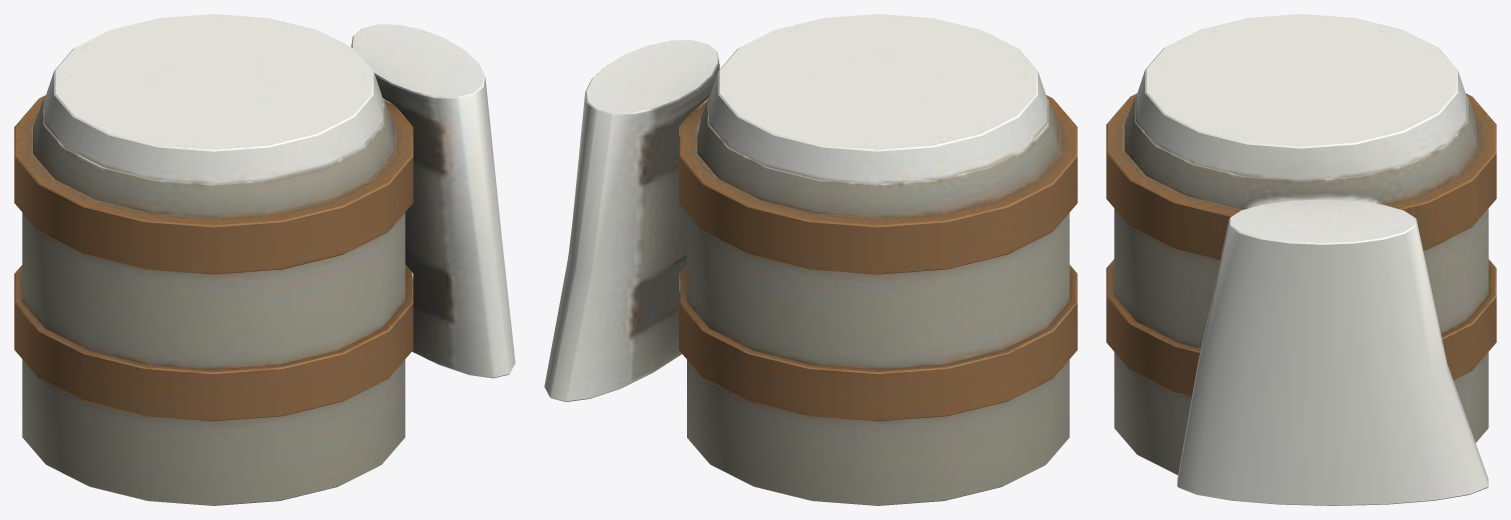
Rendered from IT_cloth_roll.glb.
3 views of the same model, side by side, from view 1: azimuth 30°, elevation 25°; view 2: azimuth 150°, elevation 25°; view 3: azimuth 270°, elevation 25° (orthographic). The views are drawn at different scales.
Visible parts, largest first — view 1: IT_cloth_roll; view 2: IT_cloth_roll; view 3: IT_cloth_roll.
Boxes of the visible parts, x1,y1,x2,y2 form: IT_cloth_roll: (14,14,515,505); IT_cloth_roll: (544,14,1077,505); IT_cloth_roll: (1106,14,1496,505).
Size of the model in its own units: 0.4775 by 0.35 by 0.3693.
Materials: 1 (1 with a texture image).
